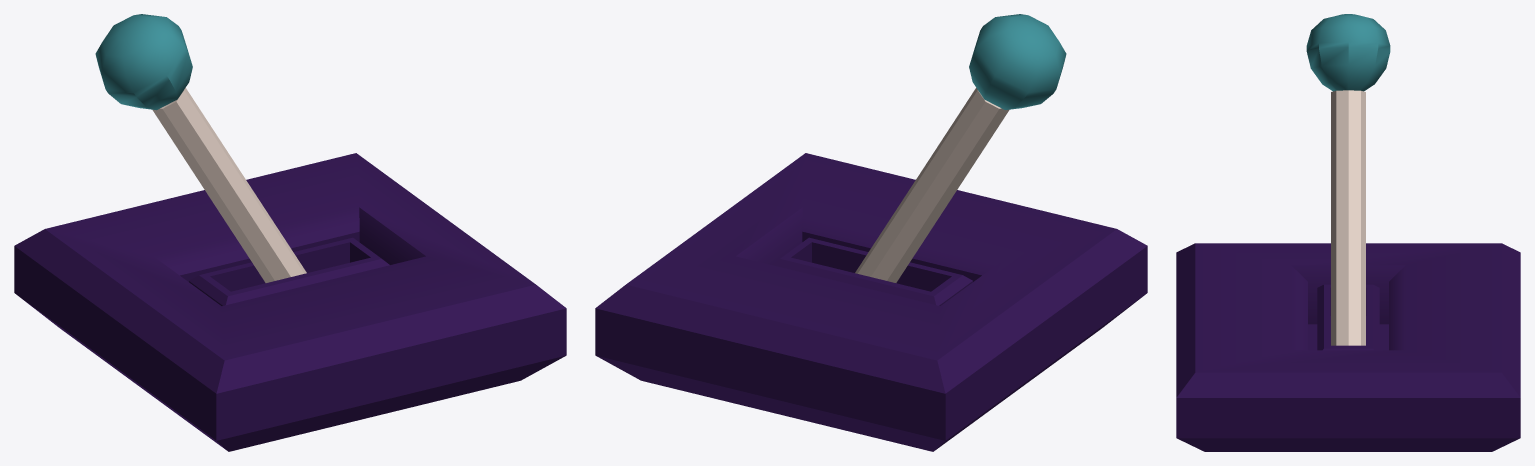
File: yaogan_2.fbx
3 renders of one model, left to right at view 1: azimuth 30°, elevation 25°; view 2: azimuth 150°, elevation 25°; view 3: azimuth 270°, elevation 25°, orthographic. The views are drawn at different scales.
Visible parts, largest first — view 1: 柱体.001; view 2: 柱体.001; view 3: 柱体.001.
Boxes of the visible parts, box(x1,y1,x2,y2) form: 柱体.001: box(14, 14, 566, 451); 柱体.001: box(595, 14, 1147, 451); 柱体.001: box(1176, 14, 1520, 451).
Bounding box in the file's own units: 104 × 101 × 100.
